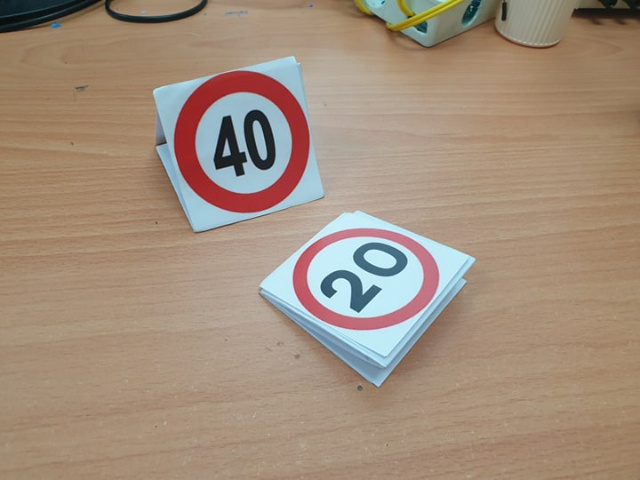Limit 20: (287, 229, 443, 332)
Limit 40: (171, 75, 312, 211)
